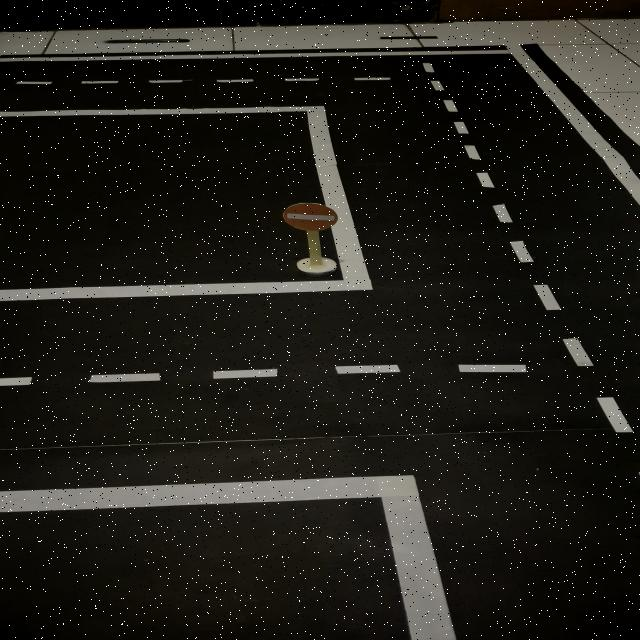Dilarang Masuk: (283, 203, 338, 231)
